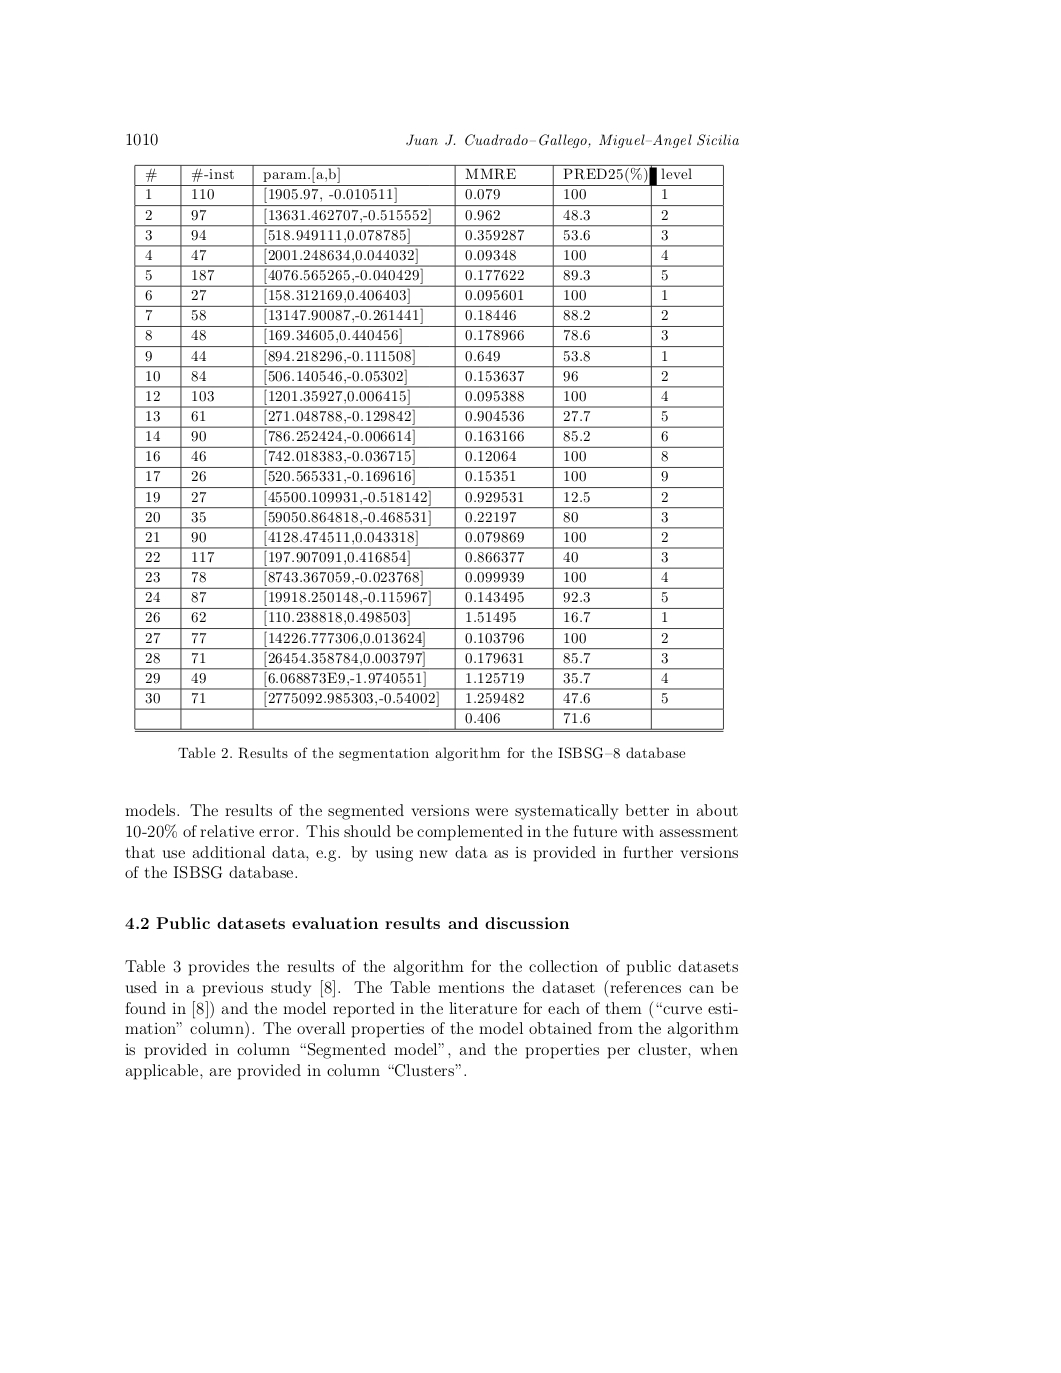Table: (134, 163, 723, 732)
